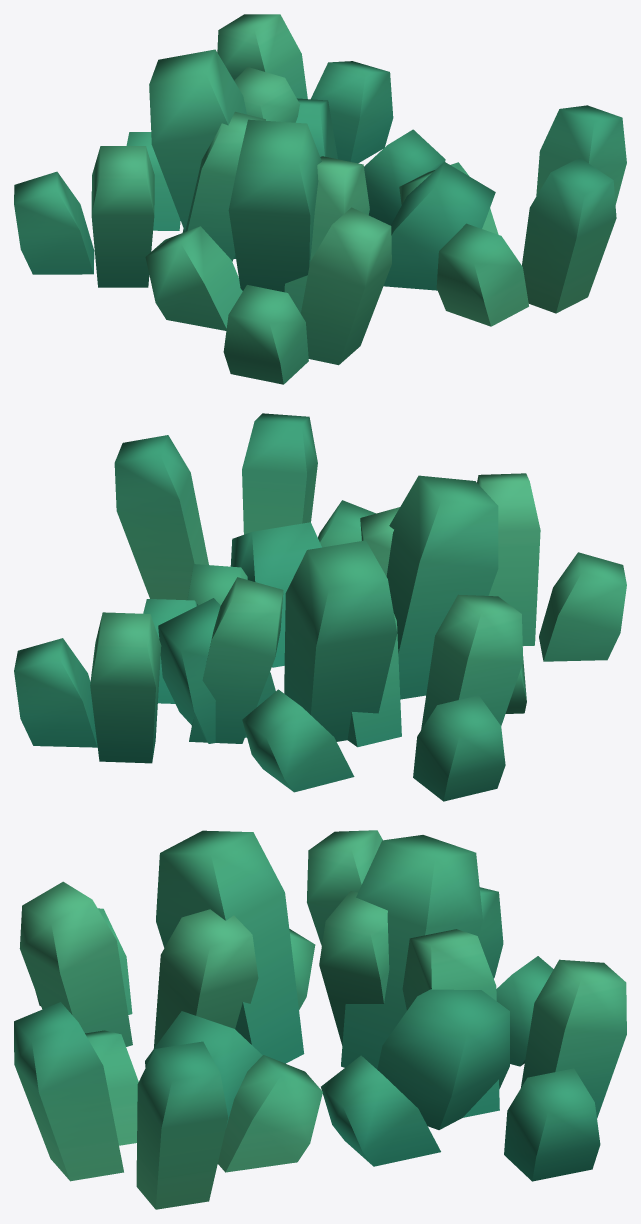
Rendered from grass-patch.glb.
3 renders of one model, top to bottom at view 1: azimuth 30°, elevation 25°; view 2: azimuth 150°, elevation 25°; view 3: azimuth 270°, elevation 25°, orthographic. The views are drawn at different scales.
Parts seen in each view (by area): view 1: grass-patch; view 2: grass-patch; view 3: grass-patch.
Boxes of the visible parts, left/top/right/bottom form: grass-patch: left=14, top=14, right=626, bottom=384; grass-patch: left=14, top=413, right=626, bottom=801; grass-patch: left=14, top=830, right=626, bottom=1209.
Size of the model in its own units: 1.31 by 0.4709 by 1.27.
Materials: 1 (1 with a texture image).
